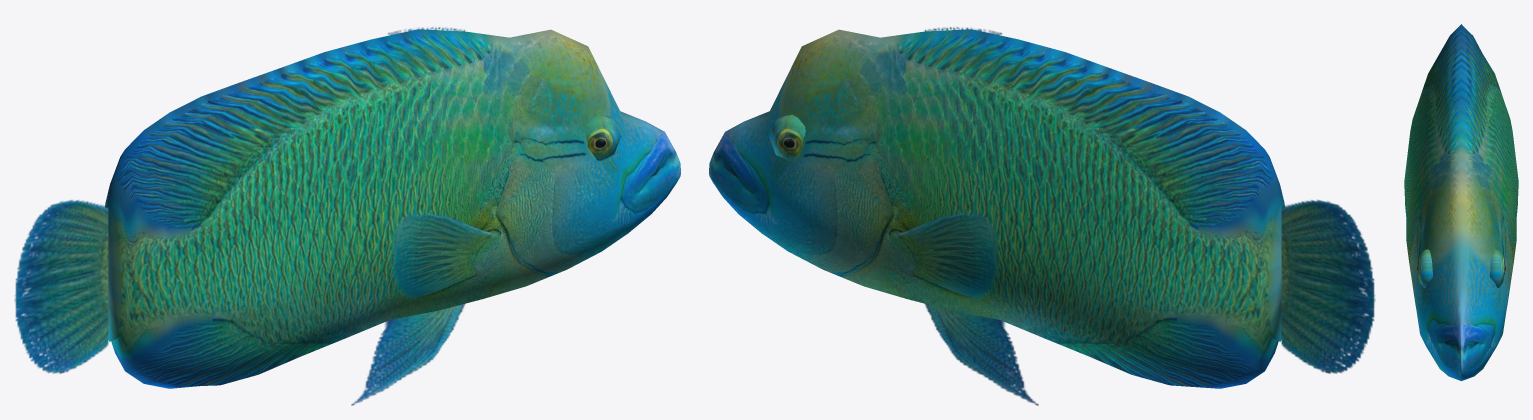
File: ocean-wrasse.glb
3 views of the same model, side by side, from view 1: azimuth 30°, elevation 25°; view 2: azimuth 150°, elevation 25°; view 3: azimuth 270°, elevation 25° (orthographic). The views are drawn at different scales.
Parts seen in each view (by area): view 1: wrasse; view 2: wrasse; view 3: wrasse.
Boxes of the visible parts, box(x1,y1,x2,y2) form: wrasse: box(14, 27, 680, 405); wrasse: box(709, 27, 1375, 405); wrasse: box(1404, 24, 1518, 380).
Bounding box in the file's own units: 1.5 × 0.7842 × 0.2831.
Materials: 1 (1 with a texture image).
